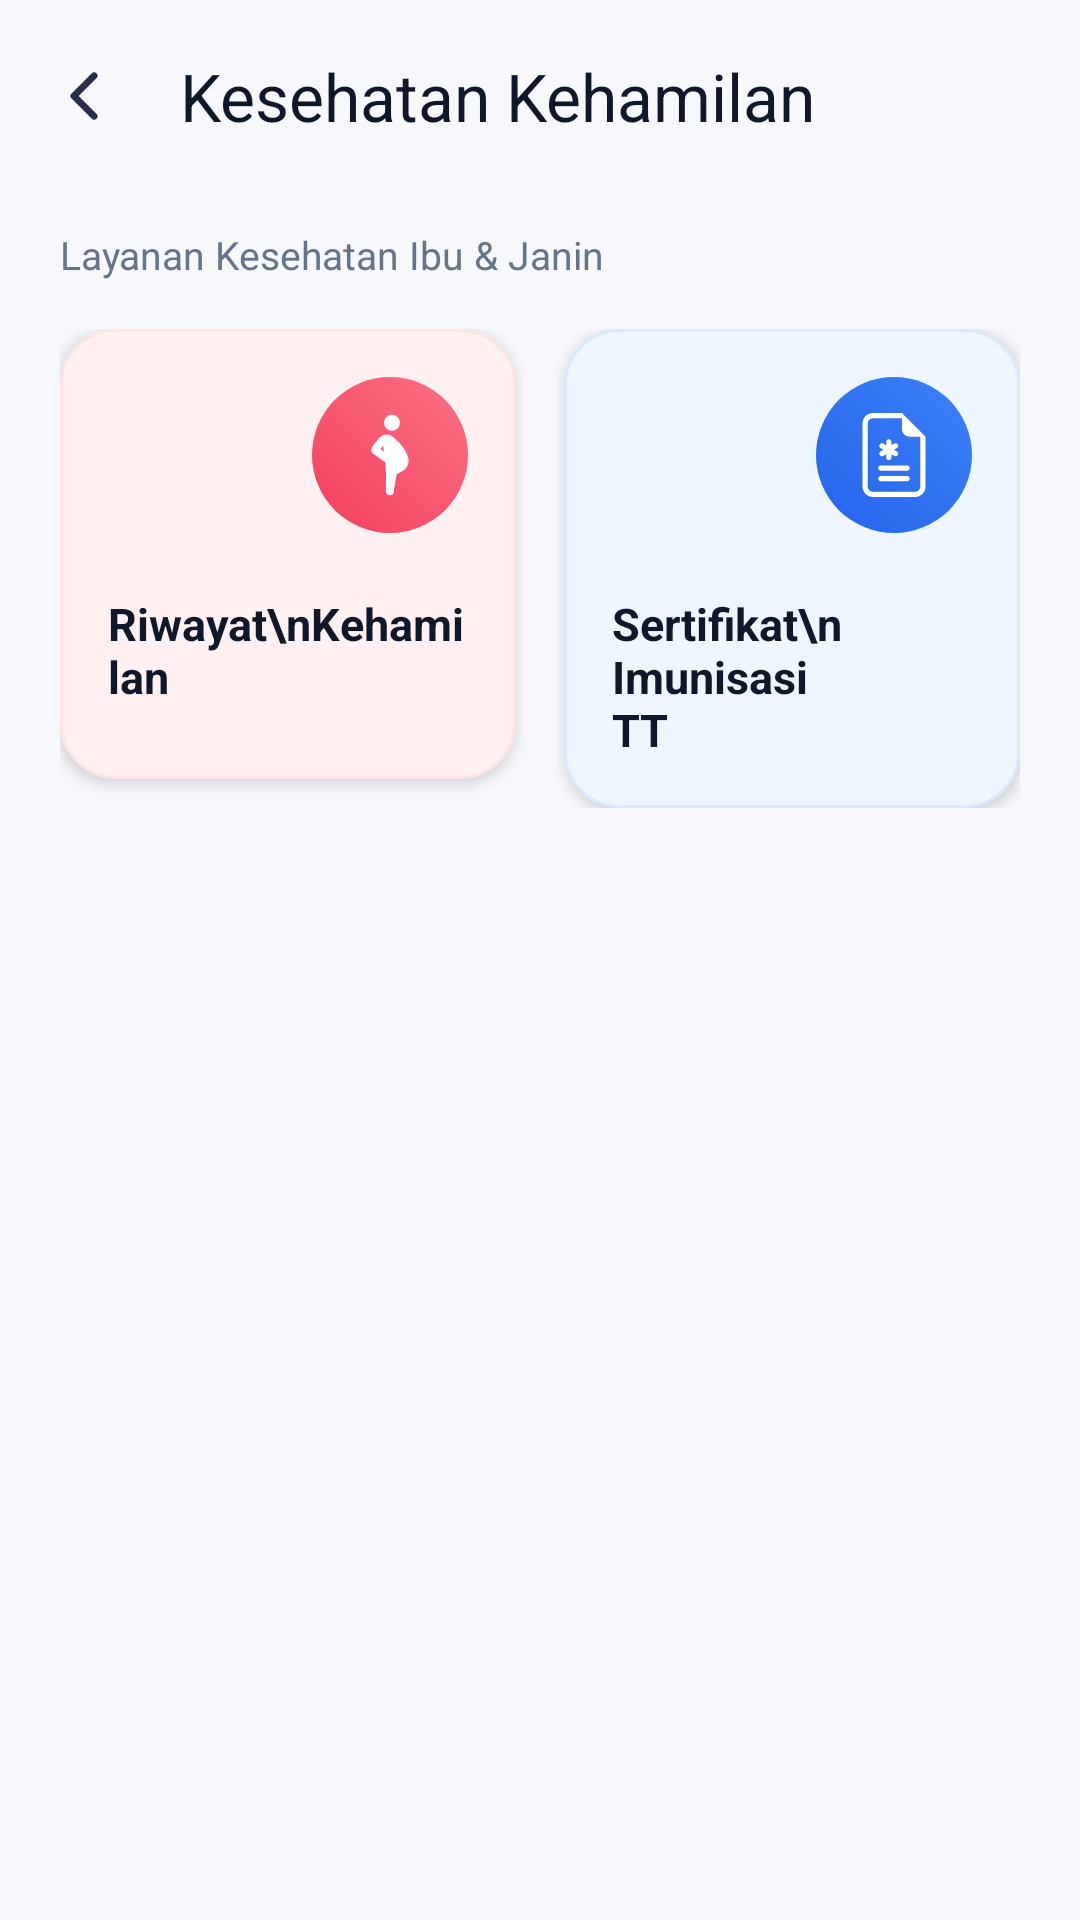

Icons on this 1080px×1920px Android screen, each with its box as (x1, y1, x2, y2):
kesehatan kehamilan putih: (371, 414, 409, 496)
sertifikat imunisasi putih: (862, 413, 926, 497)
